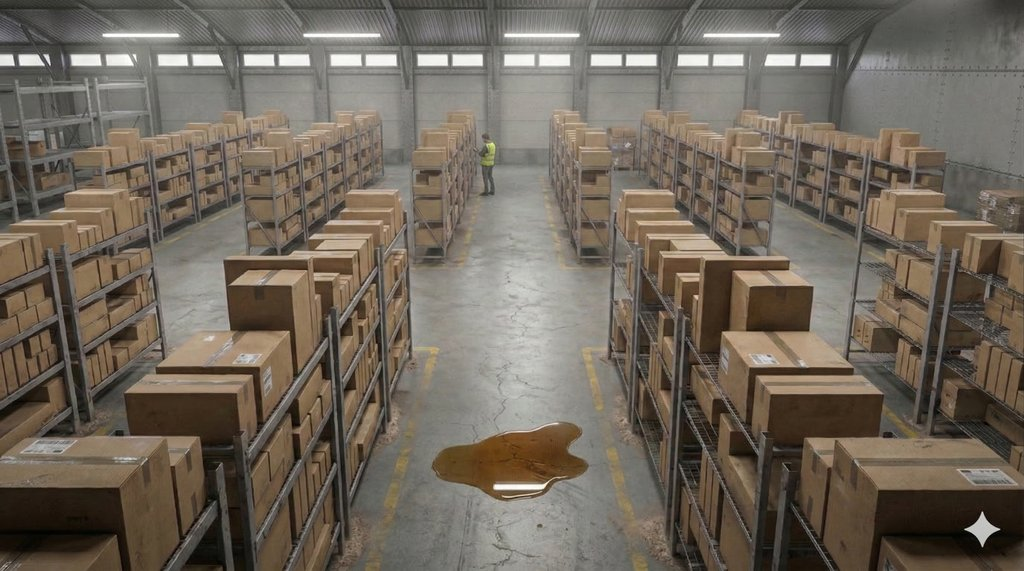empty_shelf: (0, 70, 157, 131), (956, 271, 1011, 342), (866, 227, 895, 284)
person: (463, 128, 512, 208)
safety_vest: (474, 144, 503, 173)
spill: (406, 386, 613, 514)
